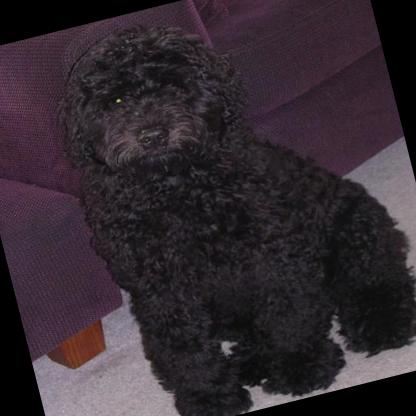Bouvier_des_Flandres: (32, 0, 416, 416)
